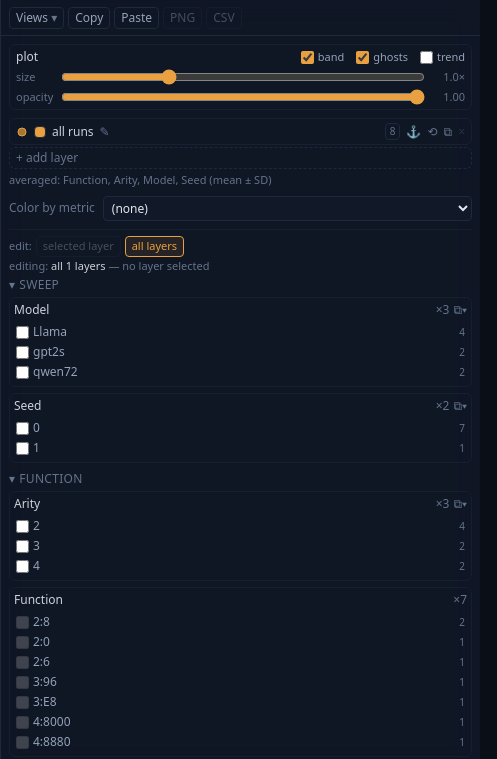
Test: layers strip › clicking the selected layer's name opens the inline rename input; Enter commits
The width and height of the screenshot is (497, 759).
Click the element titled "edit layer \"all runs\"": (240, 132) [9, 118, 472, 145]
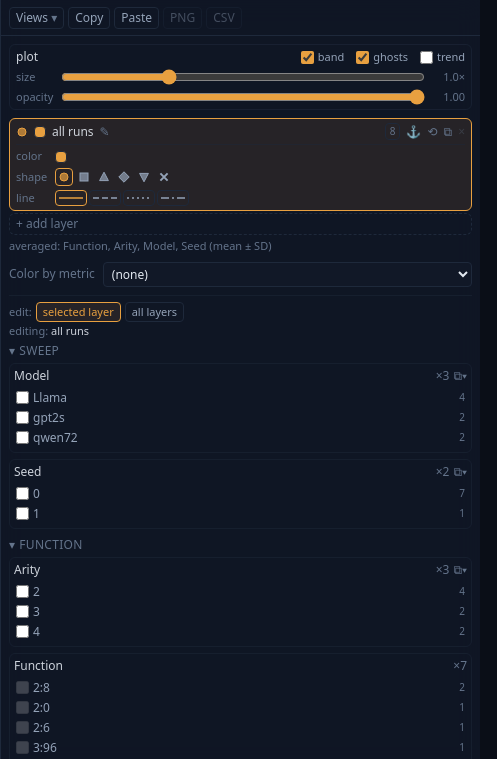
Click the button titled "rename this layer": (73, 132) [52, 124, 94, 140]
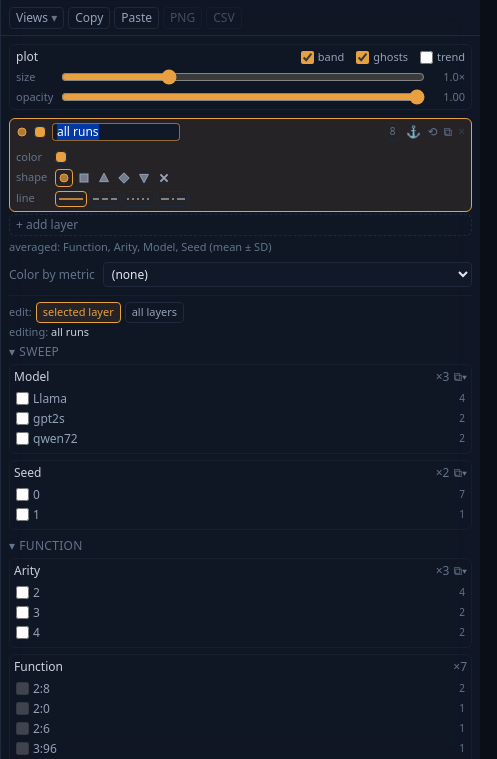
Replace the text in the field named "layer name" with "poisoned only": (116, 132) [52, 123, 180, 141]
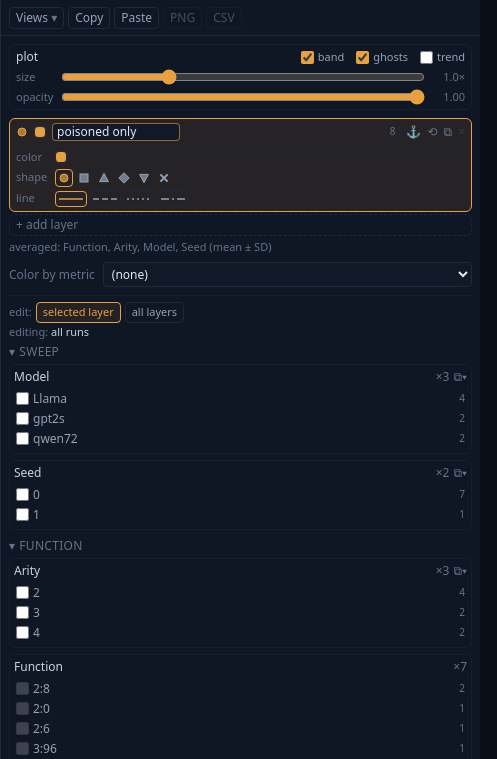
Press Enter in the field named "layer name", box [52, 123, 180, 141]
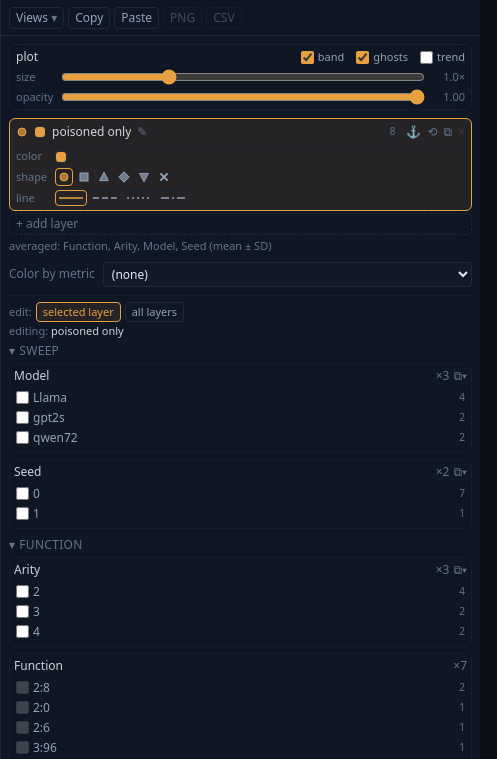
Expected: the button "poisoned only" is shown, [52, 124, 131, 140]
